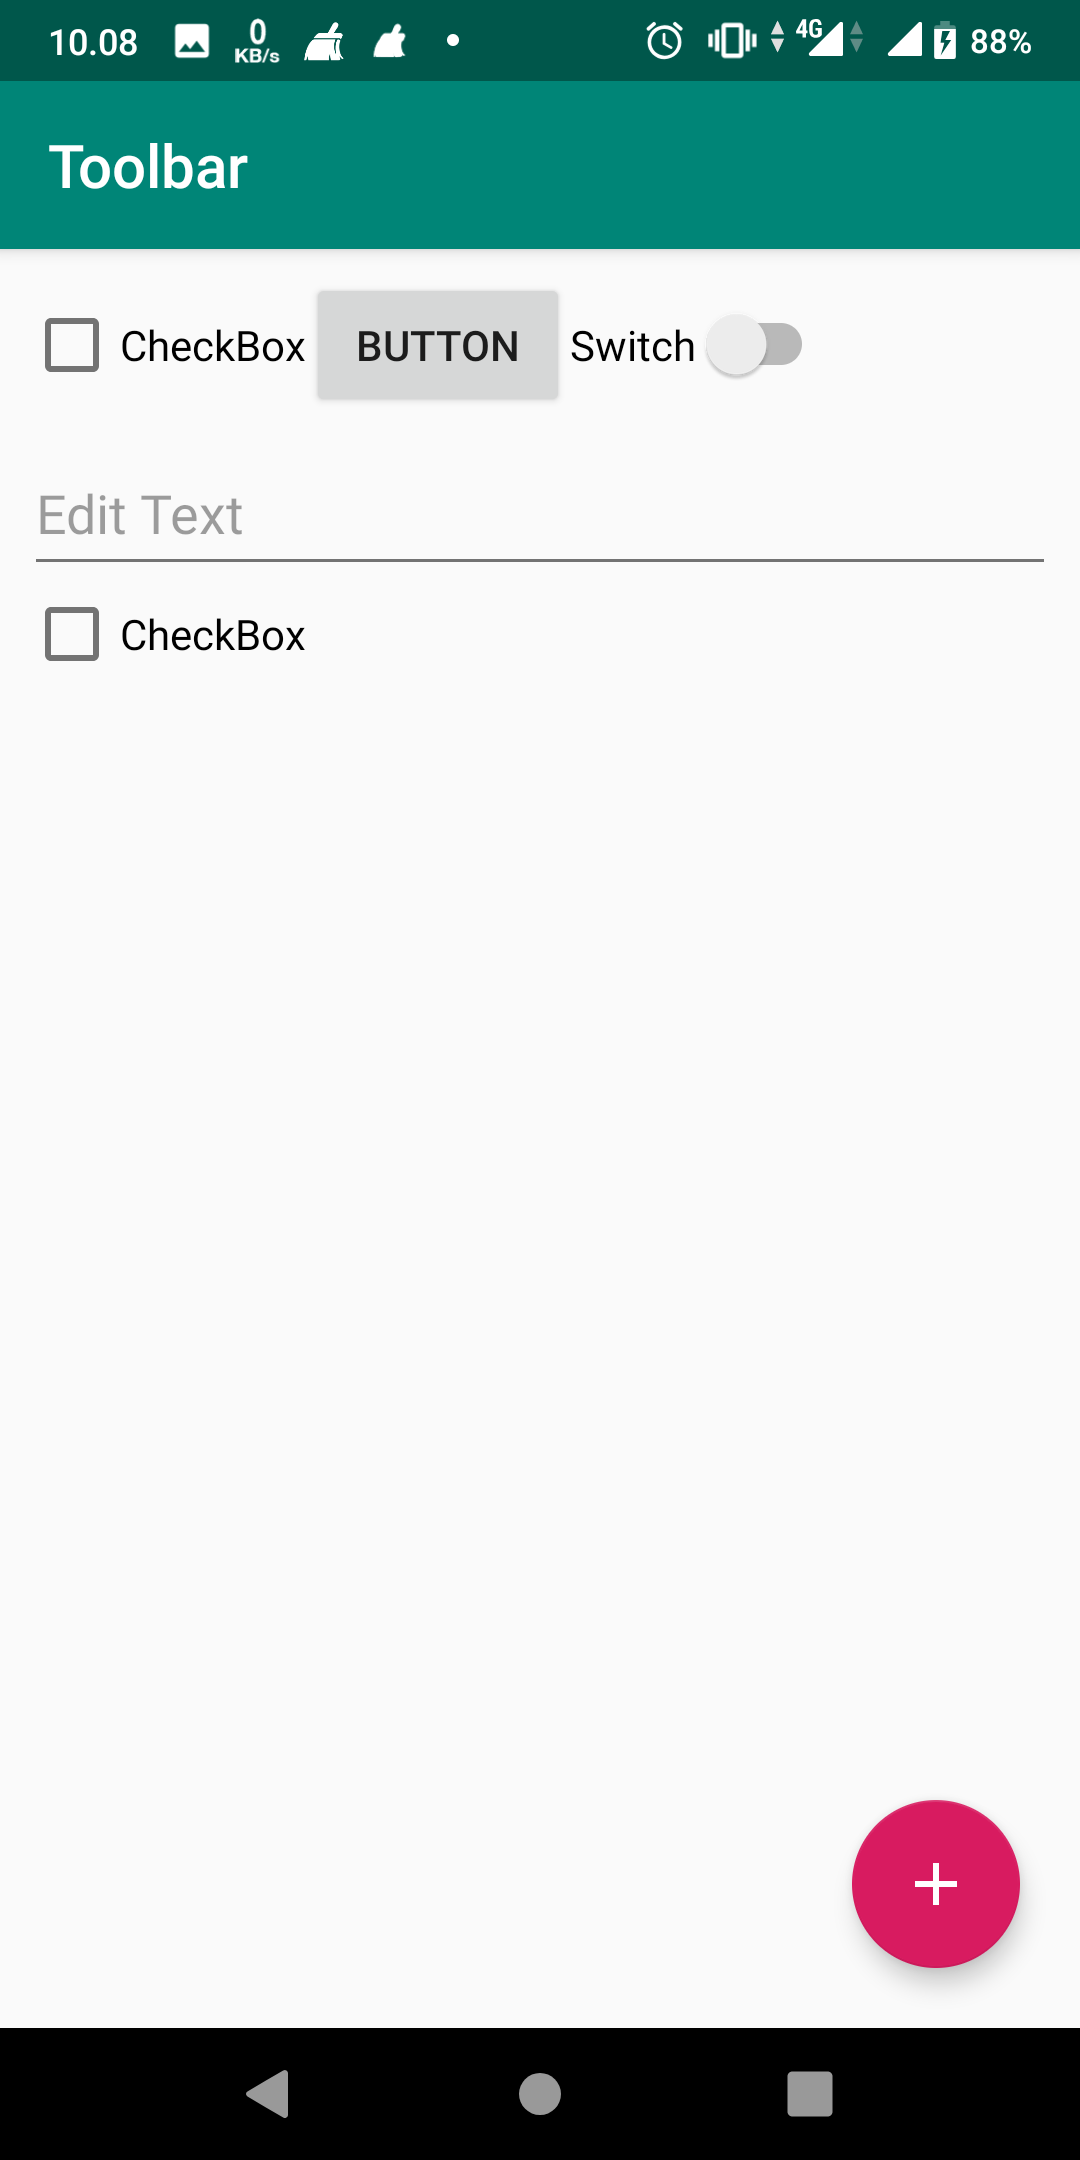button: (303, 282, 568, 415)
checkBox: (34, 302, 303, 380), (39, 599, 328, 669)
editText: (25, 484, 1051, 583)
floatingButton: (842, 1796, 1028, 1977)
switch: (573, 309, 816, 383)
toolbar: (3, 77, 1080, 241)
